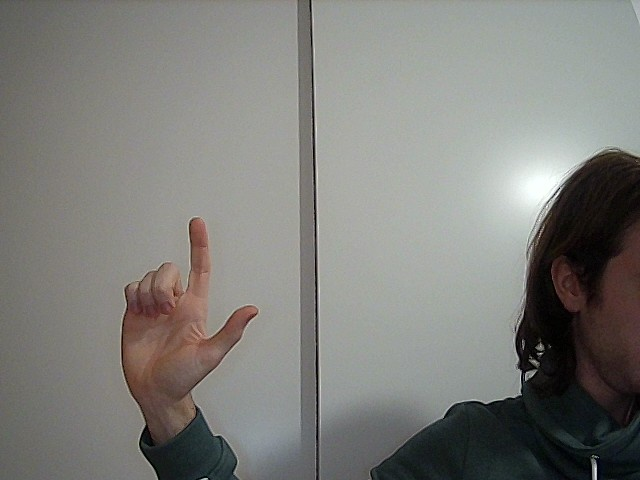l: (92, 217, 263, 400)
